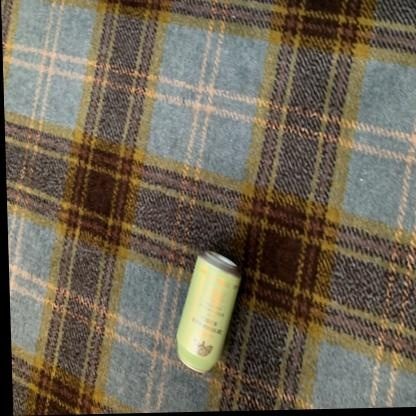trash: (176, 251, 239, 372)
